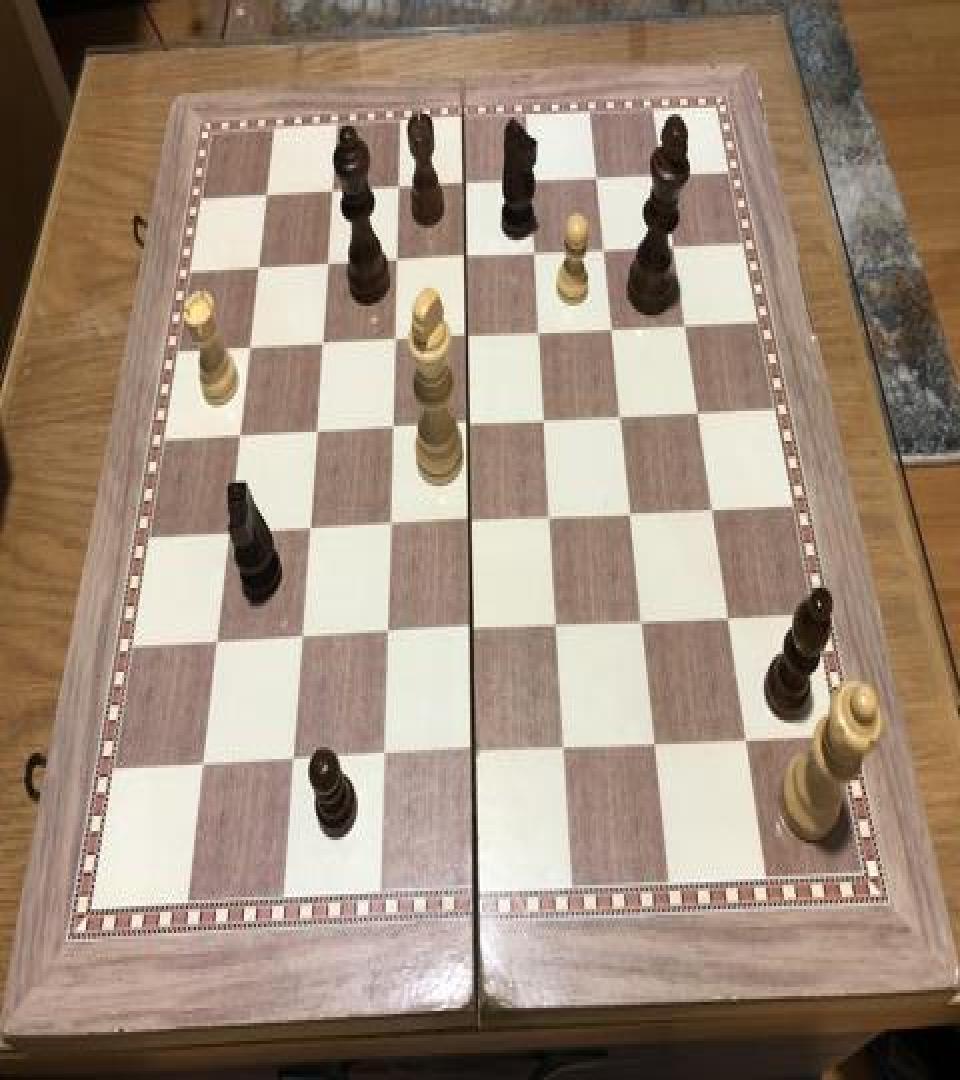xcorner: (546, 610, 570, 647), (288, 622, 312, 659), (553, 733, 577, 770), (653, 160, 677, 196), (587, 162, 611, 198), (521, 165, 545, 201), (455, 168, 479, 204), (388, 171, 412, 207), (255, 176, 279, 212), (663, 231, 687, 267), (594, 234, 618, 270), (525, 237, 549, 273), (456, 240, 480, 276), (386, 243, 410, 279), (316, 246, 340, 282), (247, 249, 271, 285), (675, 310, 699, 346), (602, 314, 626, 350), (530, 316, 554, 352), (457, 320, 481, 356), (384, 322, 408, 358), (311, 326, 335, 362), (687, 398, 711, 434), (611, 400, 635, 436), (534, 405, 558, 441), (458, 408, 482, 444), (381, 411, 405, 447), (304, 414, 328, 450), (227, 417, 251, 453), (701, 495, 725, 531), (621, 498, 645, 534), (540, 501, 564, 537), (459, 506, 483, 542), (378, 508, 402, 544), (297, 513, 321, 549), (215, 516, 239, 552), (717, 603, 741, 639), (632, 606, 656, 642), (460, 615, 484, 651), (375, 618, 399, 654), (202, 627, 226, 663), (734, 724, 758, 760), (644, 729, 668, 765), (462, 738, 486, 774), (371, 741, 395, 777), (279, 746, 303, 782), (188, 750, 212, 786), (322, 173, 346, 208), (237, 329, 261, 364)
